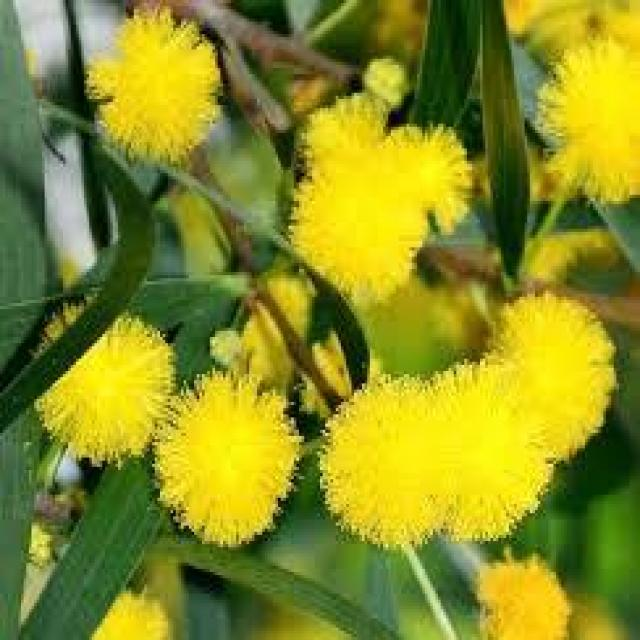organic waste: (290, 105, 486, 291), (132, 372, 300, 568), (401, 354, 569, 540), (23, 311, 170, 465), (316, 378, 434, 550), (530, 29, 635, 212), (94, 6, 220, 155), (496, 302, 619, 438)
